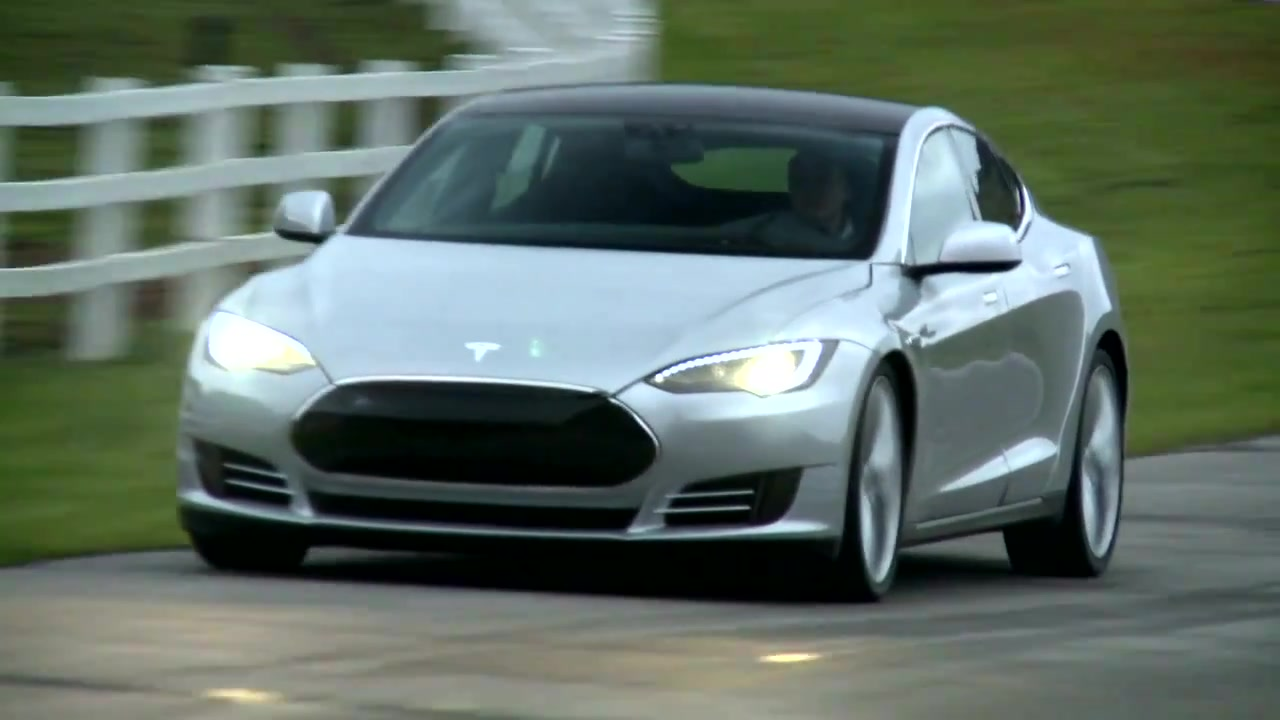car: (171, 77, 1134, 618)
